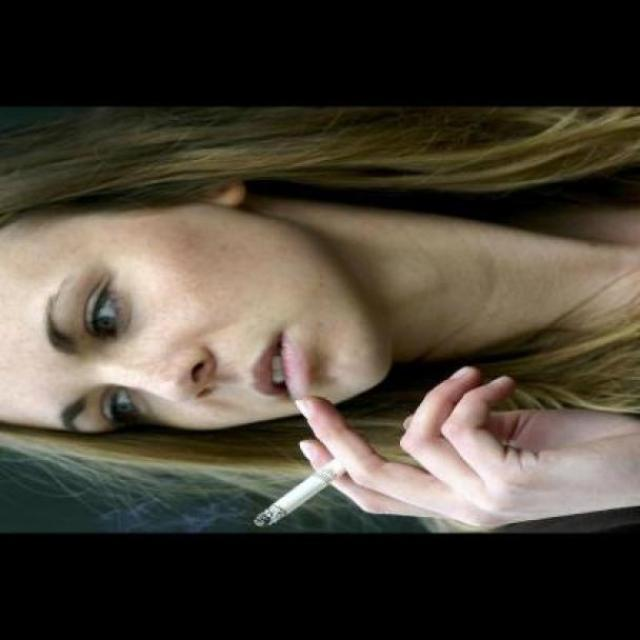rokok: (245, 452, 352, 530)
